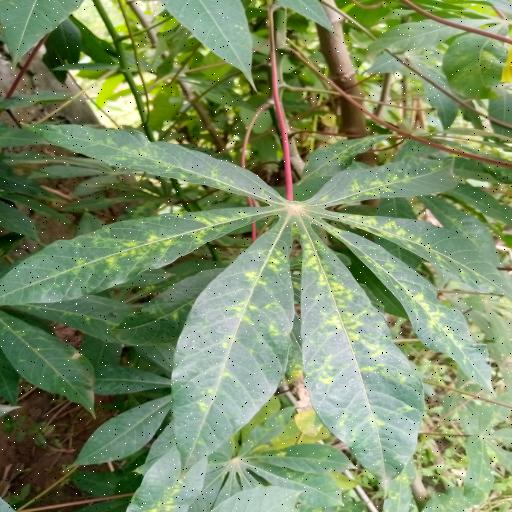Cassava_Mosaic: (0, 119, 512, 503)
